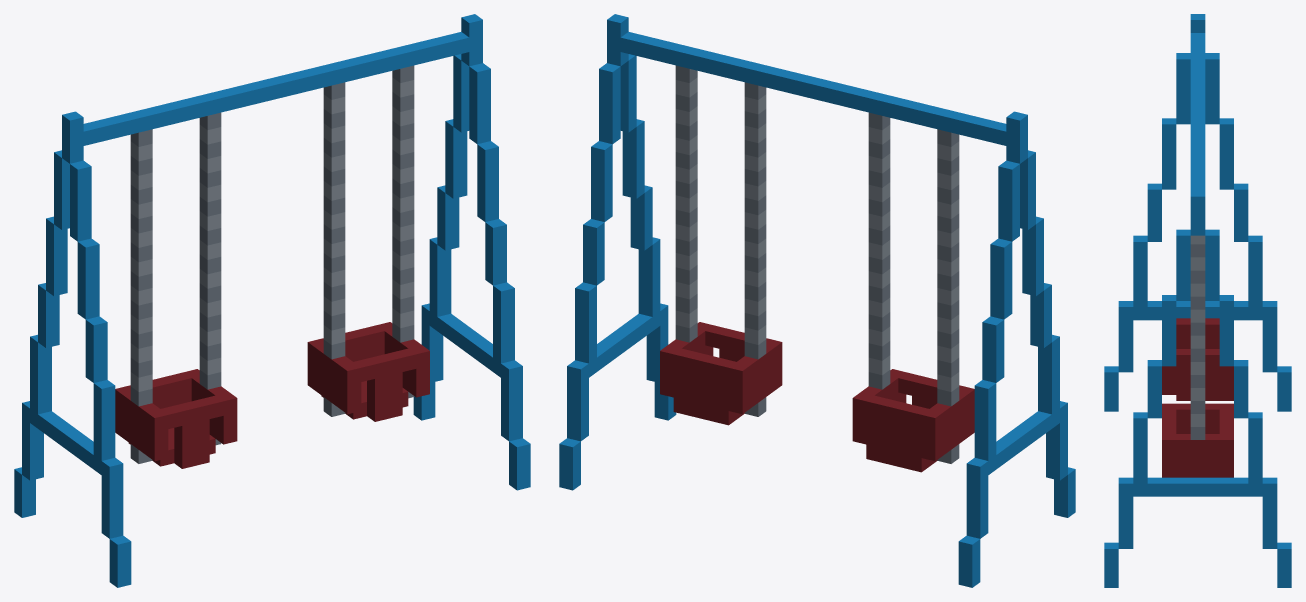
File: Playground_Set-16.obj
3 renders of one model, left to right at view 1: azimuth 30°, elevation 25°; view 2: azimuth 150°, elevation 25°; view 3: azimuth 270°, elevation 25°, orthographic. The views are drawn at different scales.
Bounding box in the file's own units: 3 × 3 × 1.3.
1 material, 1 textured.
